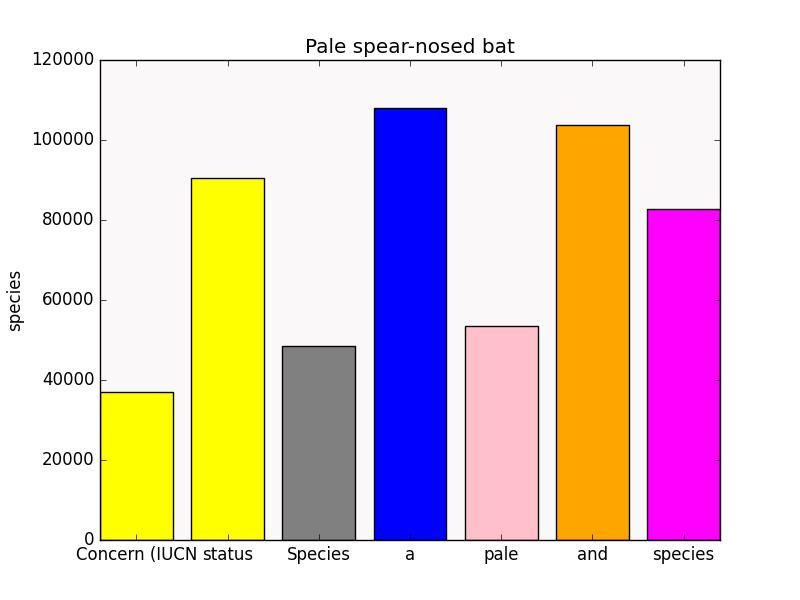axis: (8, 52, 94, 548)
rectangle: (373, 108, 446, 540), (556, 125, 629, 540), (191, 178, 264, 540), (647, 209, 720, 540), (464, 326, 538, 540), (282, 346, 356, 540), (100, 392, 173, 540)
